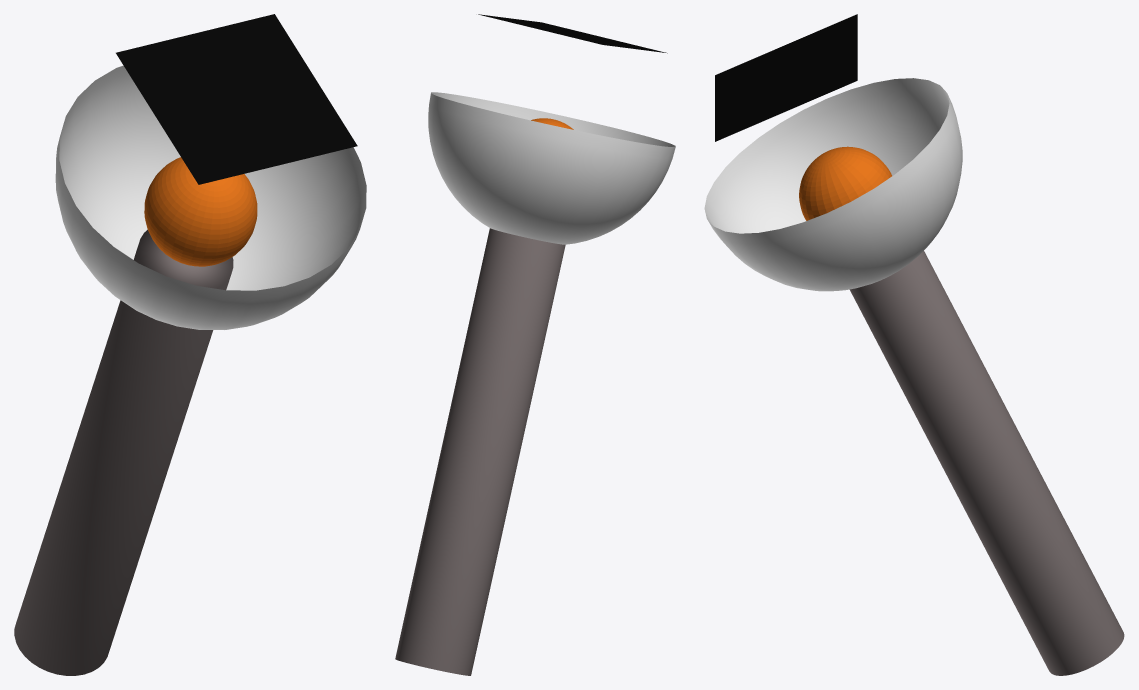
File: torch.glb
3 renders of one model, left to right at view 1: azimuth 30°, elevation 25°; view 2: azimuth 150°, elevation 25°; view 3: azimuth 270°, elevation 25°, orthographic. The views are drawn at different scales.
Visible parts, largest first — view 1: Sphere, Cylinder, Plane, Sphere.001; view 2: Cylinder, Sphere, Plane; view 3: Cylinder, Sphere, Plane, Sphere.001.
Boxes of the visible parts, x1,y1,x2,y2 form: Sphere: [55, 65, 366, 329]; Cylinder: [14, 229, 233, 675]; Plane: [116, 14, 357, 184]; Sphere.001: [144, 157, 257, 266]; Cylinder: [395, 228, 565, 675]; Sphere: [428, 92, 675, 244]; Plane: [478, 14, 667, 53]; Cylinder: [849, 251, 1124, 675]; Sphere: [704, 78, 962, 291]; Plane: [715, 14, 857, 141]; Sphere.001: [799, 146, 891, 220].
Bounding box in the file's own units: 2 × 5.05 × 3.1.
